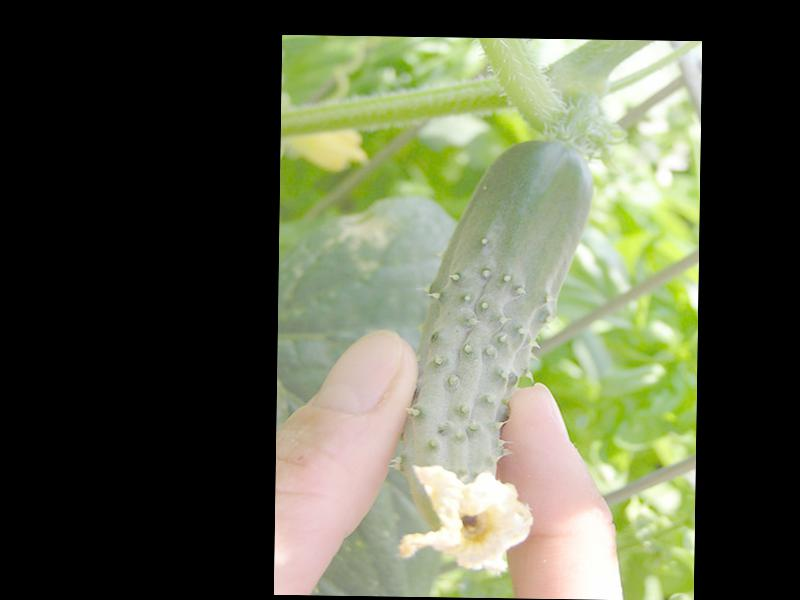Cucumber: (398, 136, 591, 572)
